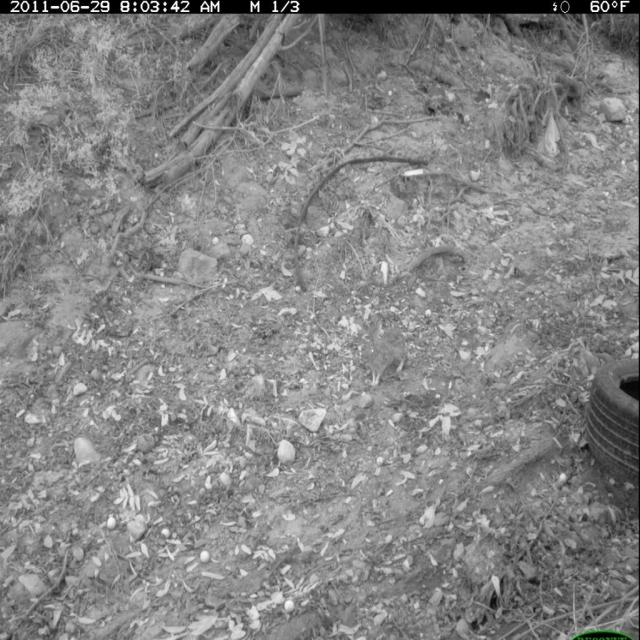rabbit: (359, 309, 420, 393)
